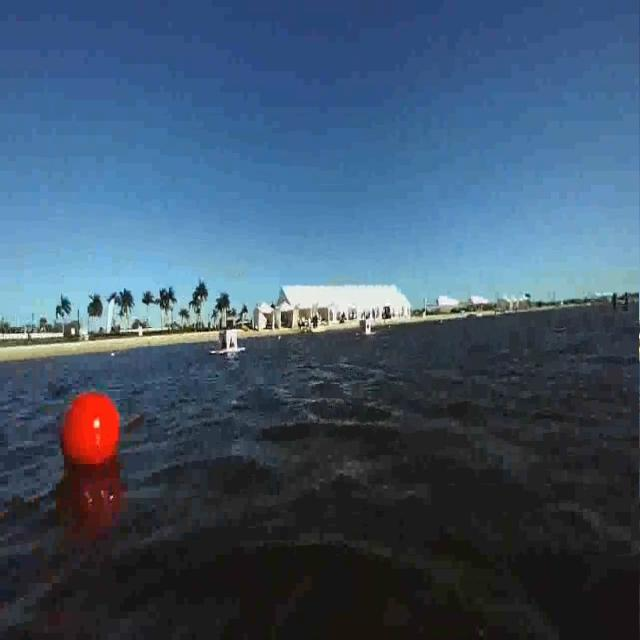red-buoy: (62, 390, 122, 470)
